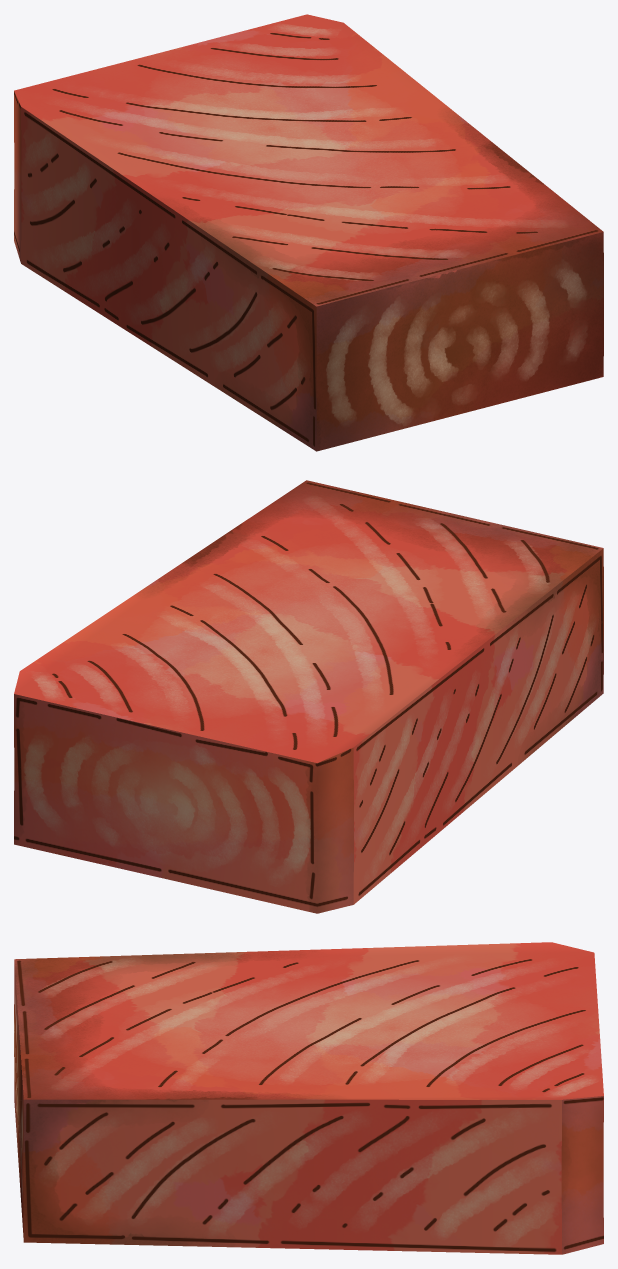
File: tuna thick cut.fbx
3 renders of one model, top to bottom at view 1: azimuth 30°, elevation 25°; view 2: azimuth 150°, elevation 25°; view 3: azimuth 270°, elevation 25°, orthographic.
Parts seen in each view (by area): view 1: tuna_thick_cut; view 2: tuna_thick_cut; view 3: tuna_thick_cut.
Boxes of the visible parts, x1,y1,x2,y2 form: tuna_thick_cut: (14,14,603,451); tuna_thick_cut: (14,480,603,913); tuna_thick_cut: (14,942,603,1254).
Bounding box in the file's own units: 7.92 × 3.63 × 12.52.
